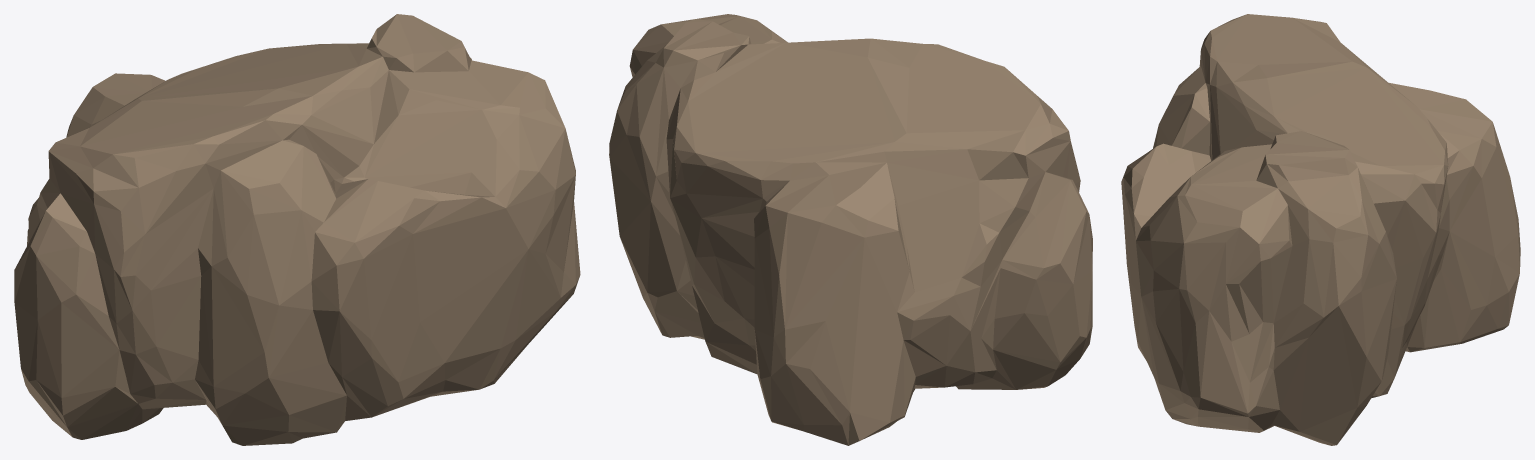
Rendered from SM_Env_Cliff_05.fbx.
3 views of the same model, side by side, from view 1: azimuth 30°, elevation 25°; view 2: azimuth 150°, elevation 25°; view 3: azimuth 270°, elevation 25° (orthographic). The views are drawn at different scales.
Visible parts, largest first — view 1: SM_Env_Cliff_05; view 2: SM_Env_Cliff_05; view 3: SM_Env_Cliff_05.
Part boxes in pixels (<box>): SM_Env_Cliff_05: <box>14,14,580,445</box>; SM_Env_Cliff_05: <box>609,14,1092,445</box>; SM_Env_Cliff_05: <box>1121,14,1520,445</box>.
Size of the model in its own units: 2142 by 1299 by 1610.
